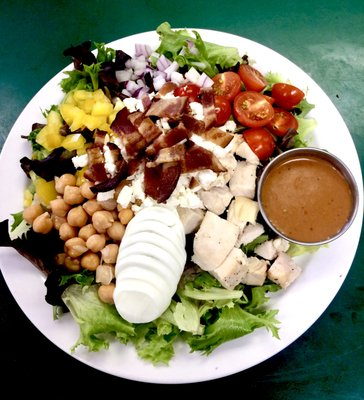sushi: (256, 147, 361, 245)
